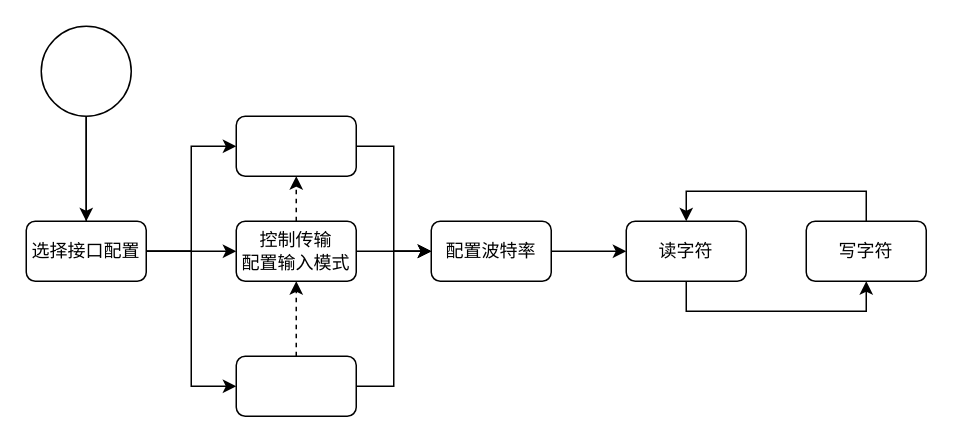
Some shapes in this 953 by 443 pixel diagram are drawn without their labels. Each missing label, with the box of its shape:
启用IO端点: (235, 355, 356, 416)
开始: (40, 25, 131, 116)
控制传输 配置输出模式: (235, 115, 356, 176)
